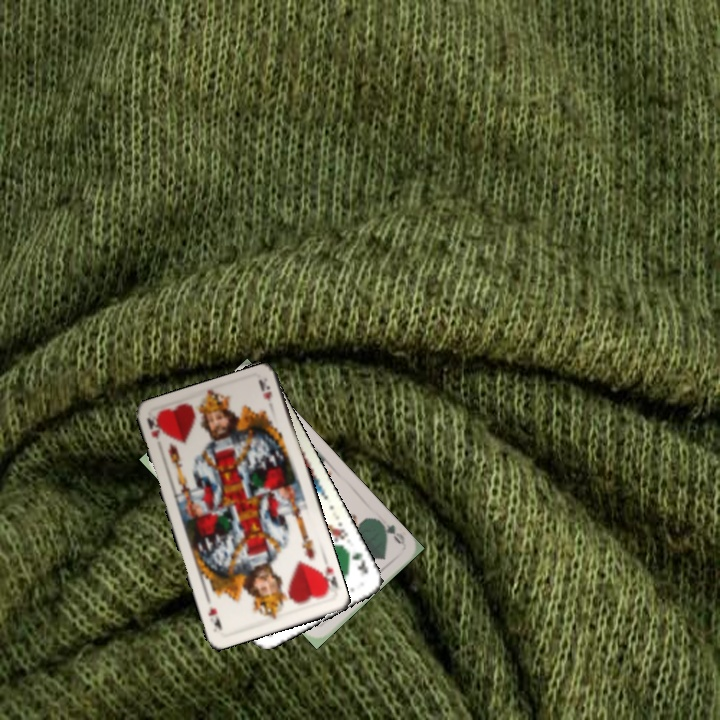GK: (341, 545, 371, 576)
GO: (373, 515, 407, 547)
HK: (314, 562, 341, 598), (143, 412, 166, 442)
